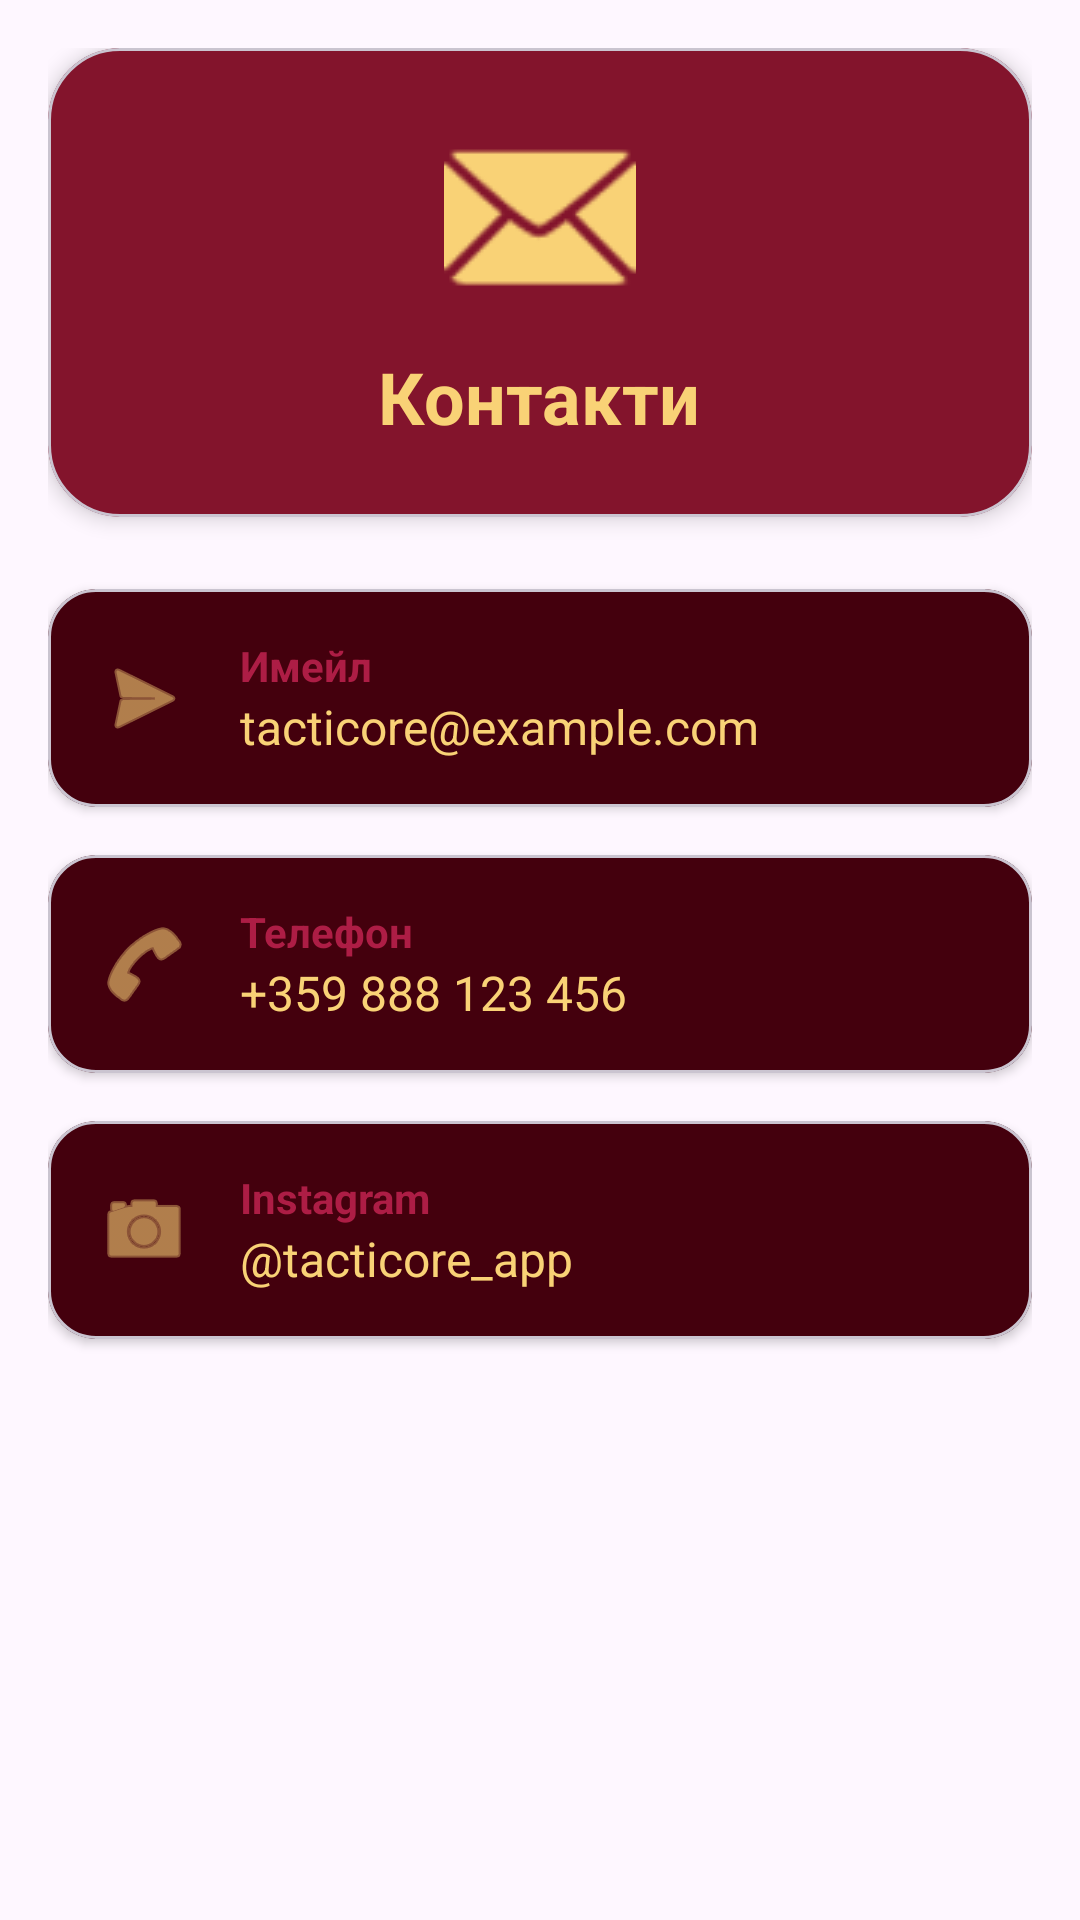

Screen size 1080 x 1920. Icon name, then its box in pixels as bbox=(x1, y1, x2, y2):
call: bbox=(107, 927, 182, 1002)
camera: bbox=(107, 1199, 181, 1258)
email: bbox=(444, 150, 636, 286)
send: bbox=(114, 668, 176, 729)
